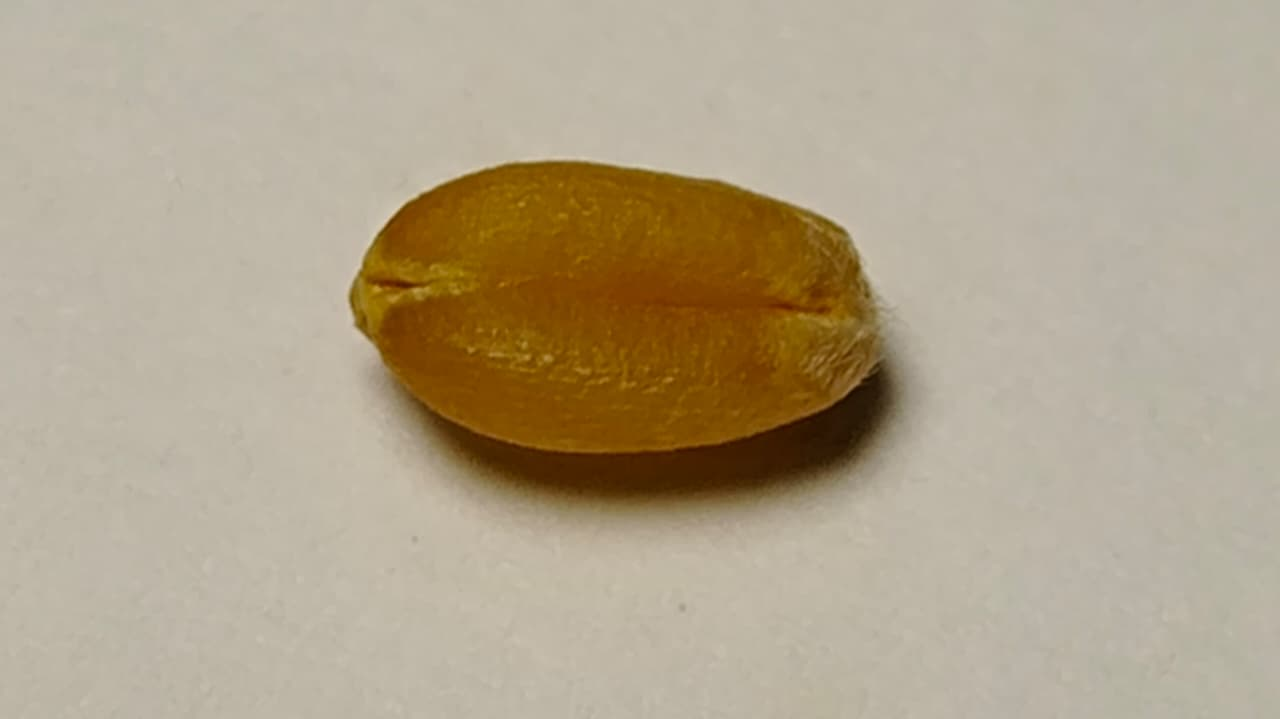healthy: (350, 163, 878, 451)
